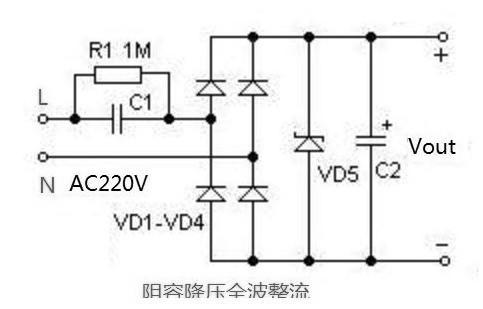cap1: (353, 132, 390, 150), (109, 102, 126, 136)
diode: (291, 132, 327, 155), (192, 76, 227, 99), (235, 77, 269, 99), (194, 183, 228, 205), (237, 183, 269, 206)
res1: (92, 63, 144, 86)
